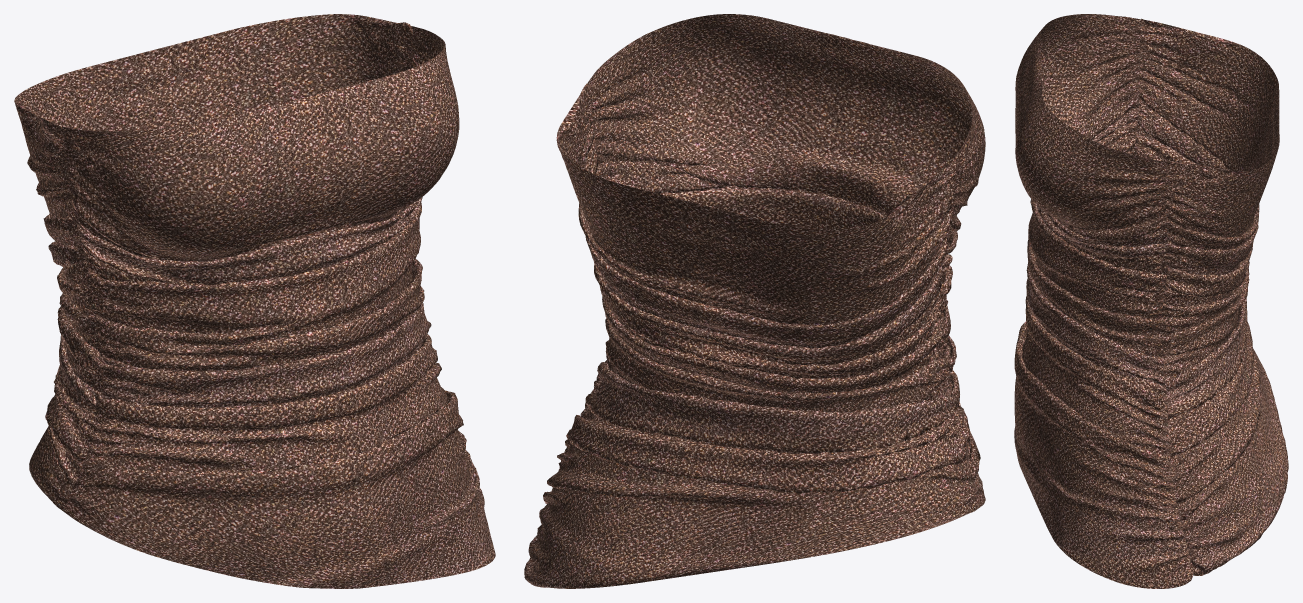
File: asimetrico_fruncido_largo.glb
The picture shows the model from 3 angles, left to right: view 1: azimuth 30°, elevation 25°; view 2: azimuth 150°, elevation 25°; view 3: azimuth 270°, elevation 25°; orthographic projection. The views are drawn at different scales.
Parts seen in each view (by area): view 1: Cloth; view 2: Cloth; view 3: Cloth.
Part boxes in pixels (box(x1,y1,x2,y2)): Cloth: box(14, 14, 495, 588); Cloth: box(524, 14, 985, 588); Cloth: box(1014, 14, 1288, 588).
Size of the model in its own units: 0.3406 by 0.4156 by 0.2379.
Materials: 1 (1 with a texture image).
